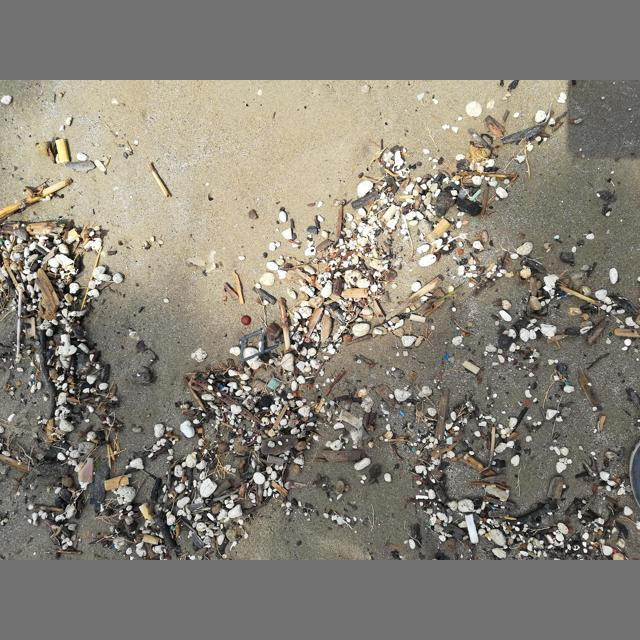litter: (239, 329, 279, 361), (139, 502, 157, 526), (465, 514, 479, 544), (78, 458, 94, 483), (104, 475, 129, 491), (16, 289, 22, 354), (55, 139, 69, 163), (60, 334, 70, 357), (268, 377, 281, 391), (142, 535, 158, 545), (470, 188, 482, 200), (461, 220, 469, 225), (170, 525, 175, 531), (400, 410, 404, 416), (295, 419, 299, 425), (219, 384, 224, 388), (444, 355, 449, 359)
